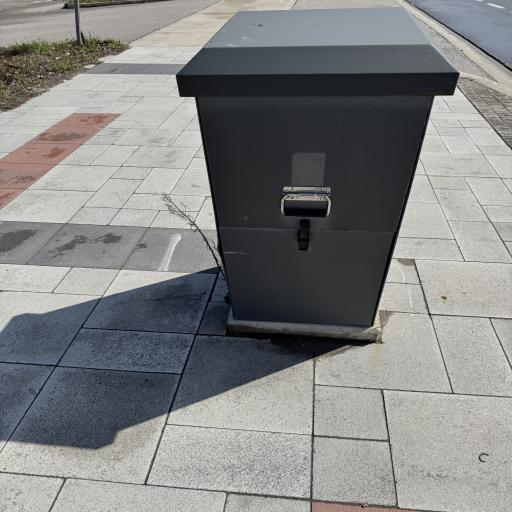Electrical Box: (176, 8, 461, 328)
